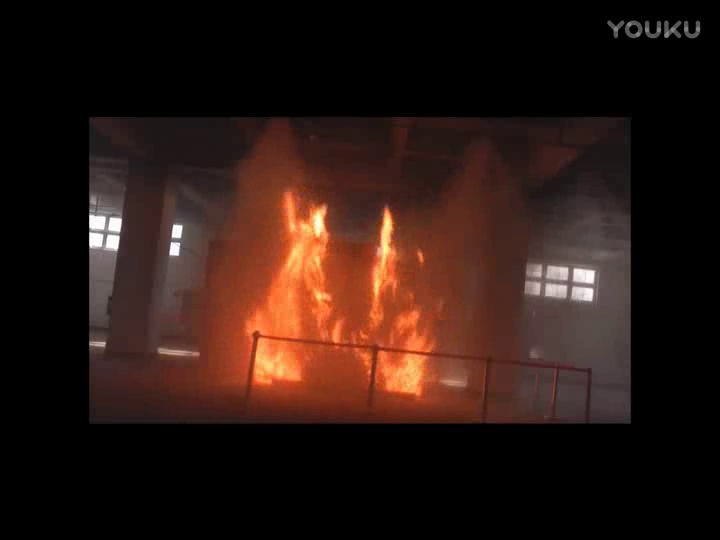fire: (248, 187, 337, 384), (359, 209, 432, 391)
